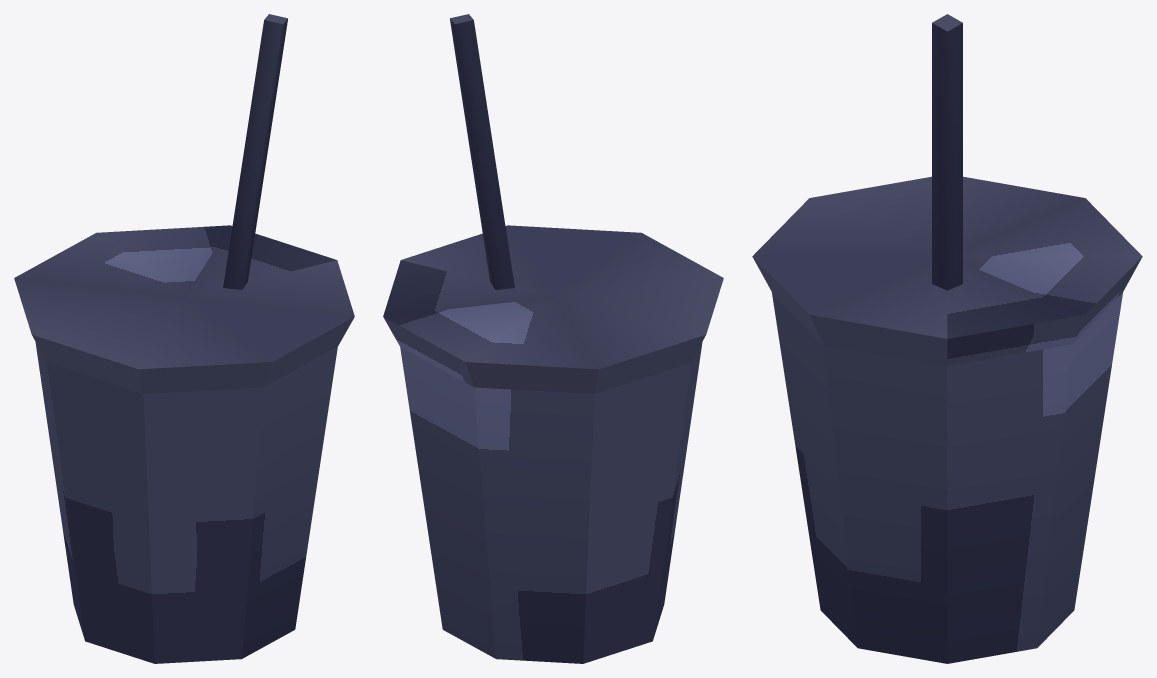
Rendered from cydress.cup.glb.
3 renders of one model, left to right at view 1: azimuth 30°, elevation 25°; view 2: azimuth 150°, elevation 25°; view 3: azimuth 270°, elevation 25°, orthographic. The views are drawn at different scales.
Parts seen in each view (by area): view 1: kit_body; view 2: kit_body; view 3: kit_body.
Part boxes in pixels (box(x1,y1,x2,y2)): kit_body: box(14, 14, 354, 663); kit_body: box(383, 14, 723, 663); kit_body: box(752, 14, 1142, 663).
Size of the model in its own units: 0.2 by 0.3613 by 0.2.
2 materials, 2 textured.
